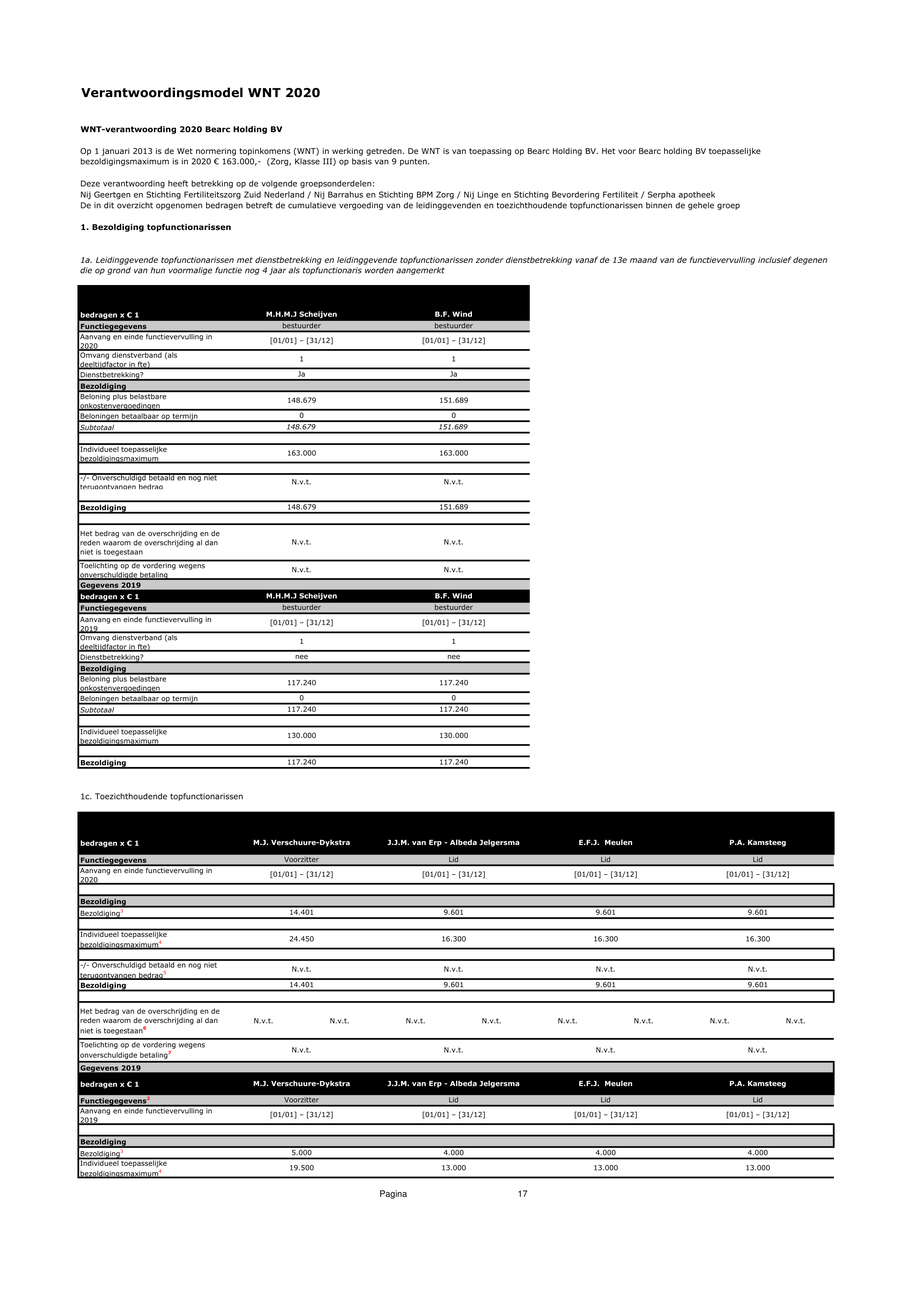coulmn: (79, 303, 227, 770), (77, 836, 234, 1178), (377, 832, 534, 1173), (252, 303, 360, 769), (407, 302, 510, 768), (699, 833, 825, 1175), (248, 835, 361, 1179), (559, 835, 658, 1175)
